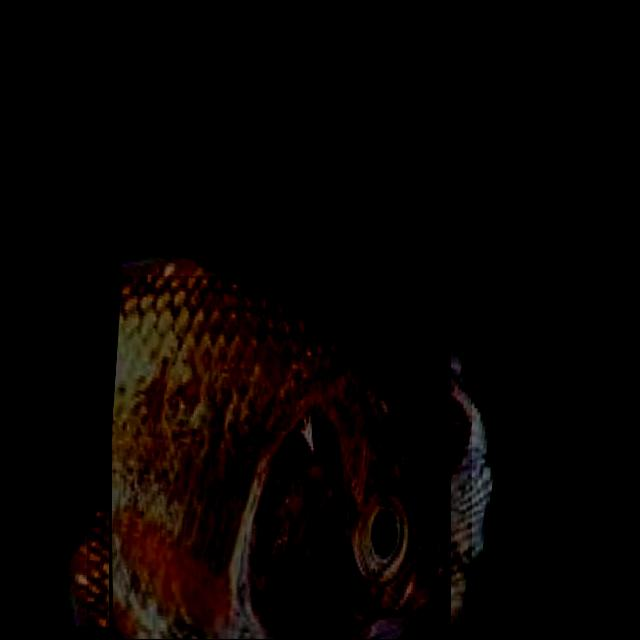Gill Disease: (87, 276, 472, 640)
